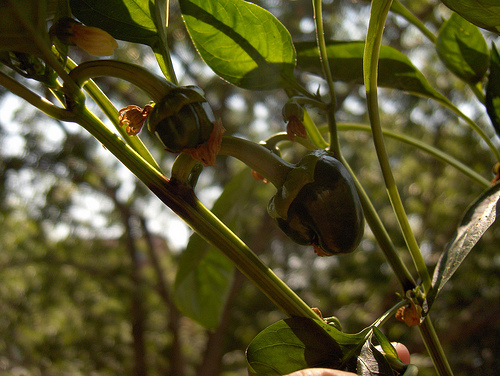capsicum: (64, 59, 216, 157), (266, 148, 366, 256)
